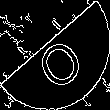O_NW: (25, 21, 85, 89)
